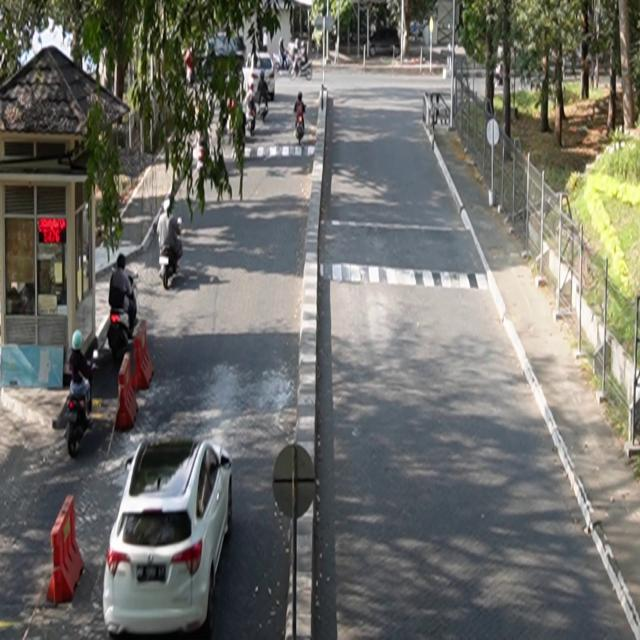car: (103, 437, 234, 638)
